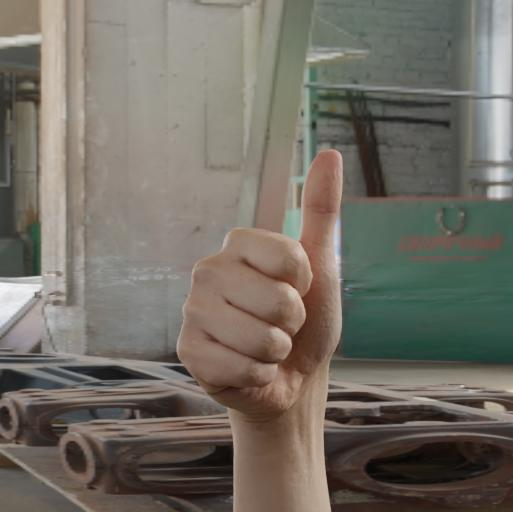thumbs-up: (185, 142, 347, 421)
